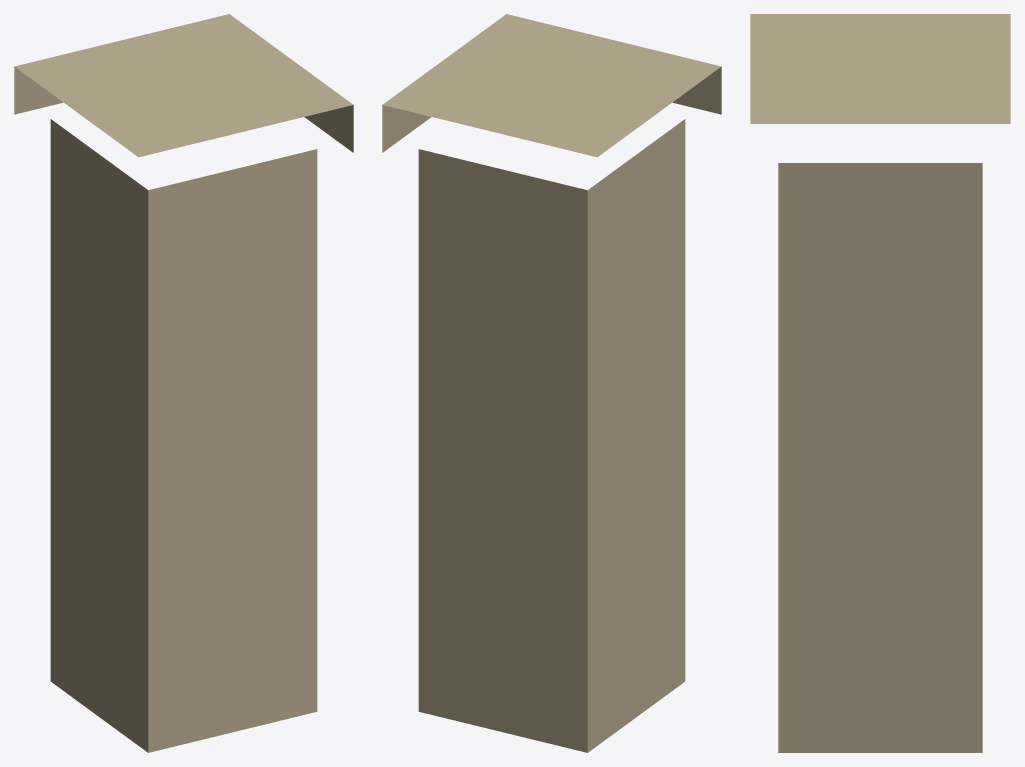
The model's file is Building_2.glb.
The picture shows the model from 3 angles, left to right: view 1: azimuth 30°, elevation 25°; view 2: azimuth 150°, elevation 25°; view 3: azimuth 270°, elevation 25°; orthographic projection. The views are drawn at different scales.
Visible parts, largest first — view 1: Building_2; view 2: Building_2; view 3: Building_2.
Part boxes in pixels (x1,y1,x2,y2): Building_2: [14, 14, 353, 752]; Building_2: [382, 14, 721, 752]; Building_2: [750, 14, 1010, 752].
Bounding box in the file's own units: 2.8 × 7.6 × 2.8.
